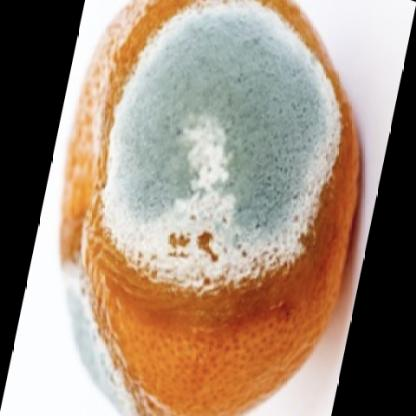rotten: (60, 1, 363, 416)
